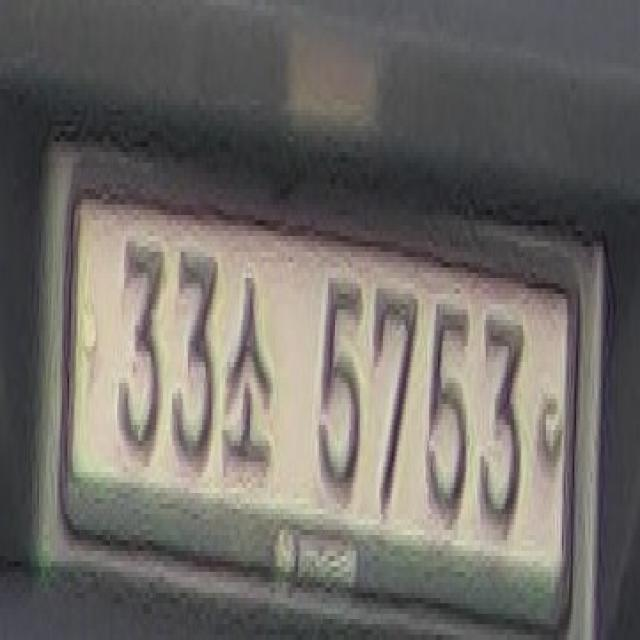3: (115, 226, 165, 457), (475, 304, 525, 535), (170, 231, 218, 467)
5: (422, 288, 470, 520), (317, 272, 362, 503)
7: (369, 278, 418, 514)
license_plate: (58, 183, 571, 592)
so: (220, 252, 275, 477)
